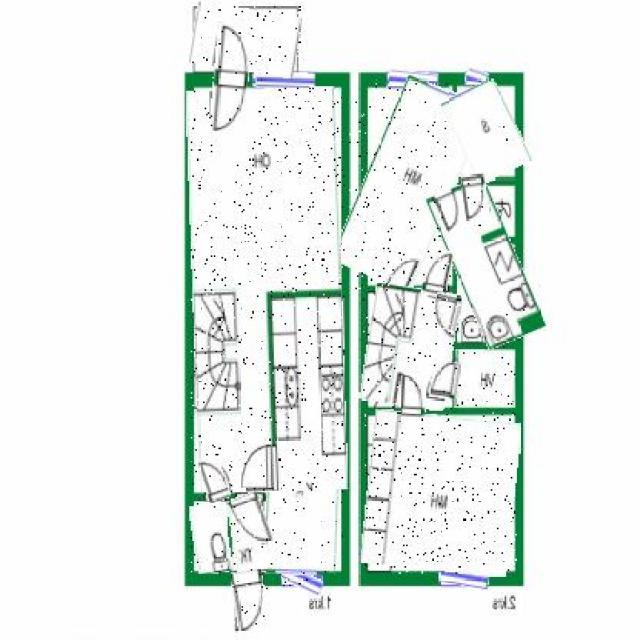door: (212, 23, 250, 139), (232, 571, 268, 631), (232, 492, 270, 546), (238, 444, 272, 488), (423, 249, 451, 300), (462, 176, 488, 224), (202, 457, 229, 503), (431, 360, 460, 398), (431, 294, 460, 331), (402, 376, 426, 418)
window: (440, 569, 489, 588), (282, 569, 323, 591), (256, 74, 316, 89), (389, 70, 438, 88), (466, 69, 489, 88)
zone: (190, 88, 344, 492), (349, 80, 471, 289), (365, 412, 517, 574), (268, 298, 343, 576), (442, 178, 530, 348), (363, 286, 457, 409), (192, 6, 300, 74), (449, 83, 523, 182), (456, 350, 516, 408), (229, 497, 268, 572), (191, 503, 231, 574)
